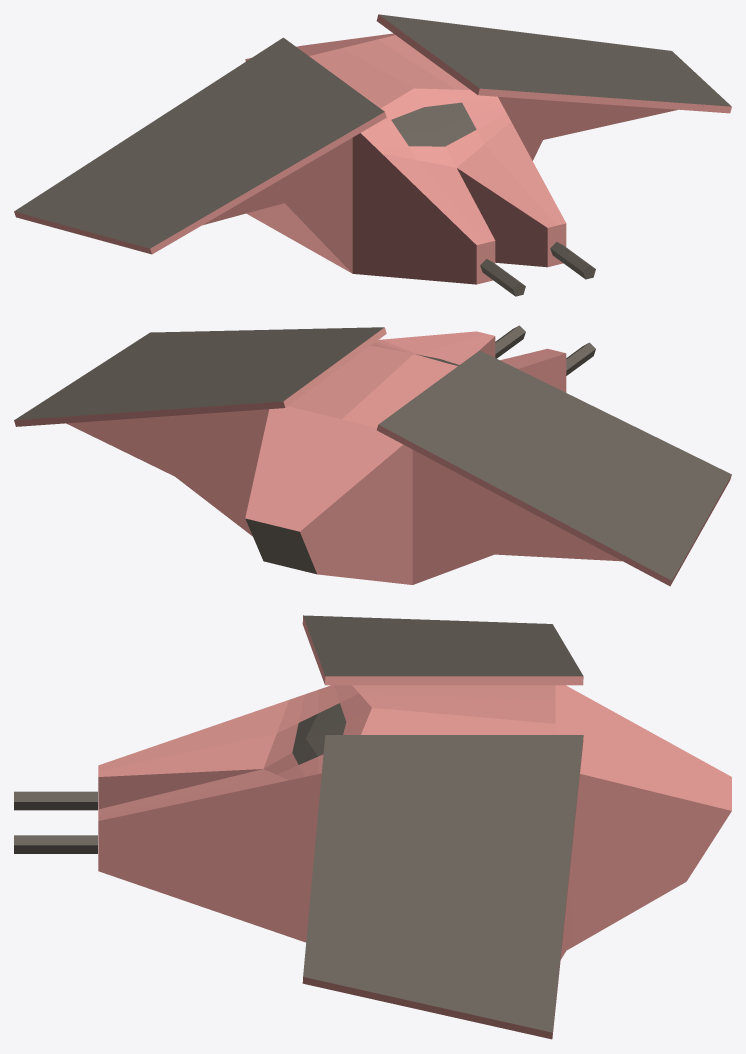
File: Spaceship 2 - rev1.glb
The picture shows the model from 3 angles, top to bottom: view 1: azimuth 30°, elevation 25°; view 2: azimuth 150°, elevation 25°; view 3: azimuth 270°, elevation 25°; orthographic projection. The views are drawn at different scales.
Visible parts, largest first — view 1: Ship; view 2: Ship; view 3: Ship.
Boxes of the visible parts, x1,y1,x2,y2 form: Ship: (14, 14, 731, 296); Ship: (14, 325, 731, 586); Ship: (14, 615, 731, 1039).
Bounding box in the file's own units: 9.28 × 2.19 × 6.89.
